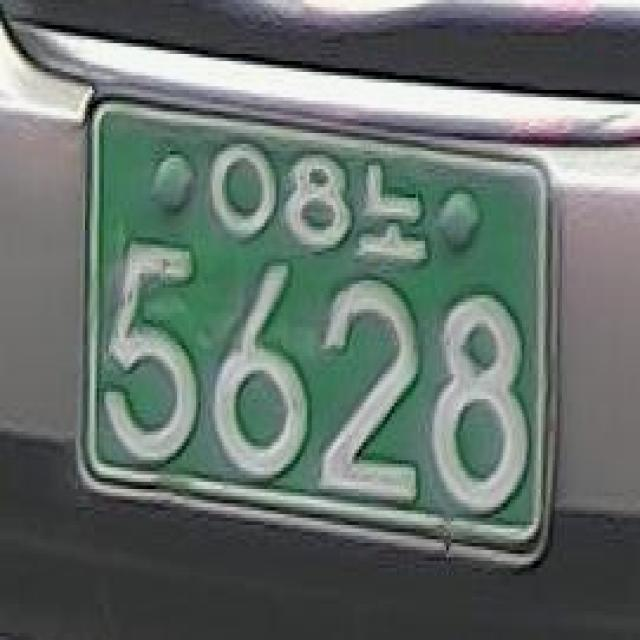illegal_plate: (68, 83, 579, 579)
